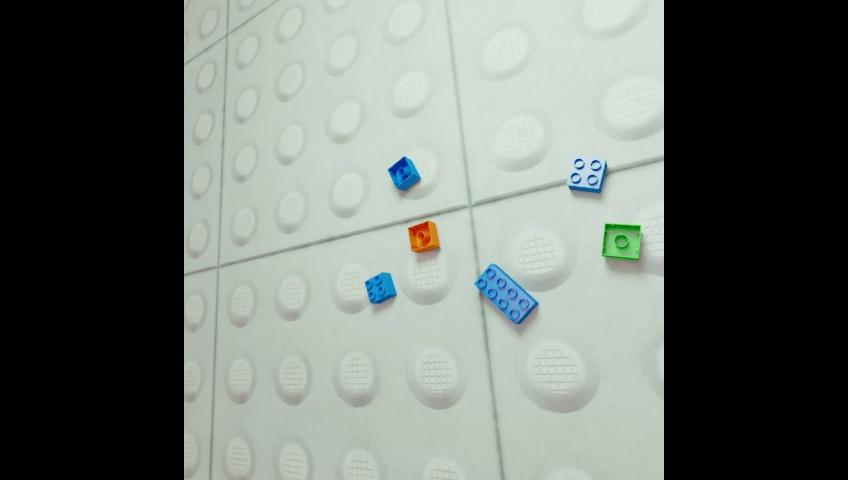2x2_blue: (566, 156, 606, 193), (386, 156, 420, 191), (363, 272, 396, 303)
2x2_green: (602, 221, 643, 258)
2x2_orange: (406, 221, 439, 253)
4x2_blue: (473, 263, 538, 324)
